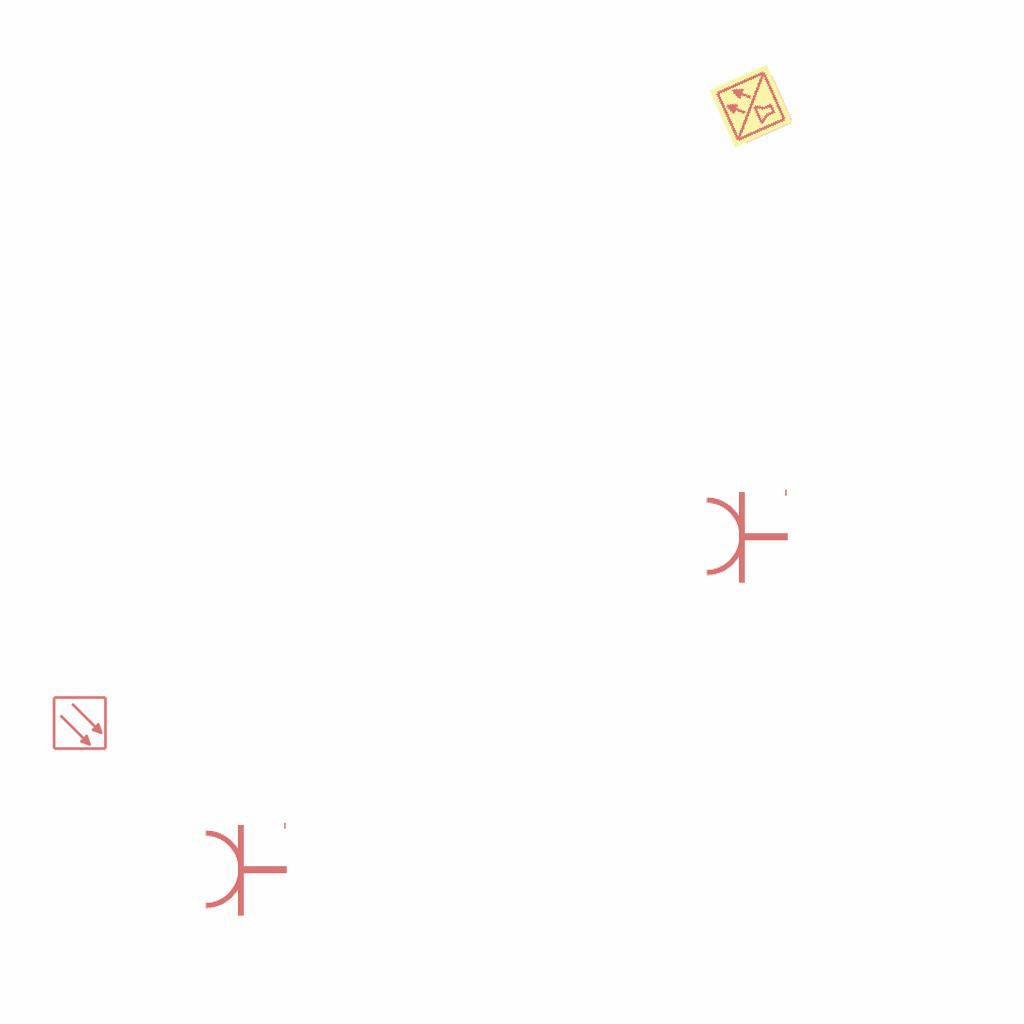OKW_Multisensormelder_(Kombination_optischer_Rauch-Kahlenmonoxid_Waerme-Melder): (707, 62, 795, 150)
RMO_Rauchmelder_optischer: (52, 695, 108, 751)
Schukosteckdose_einfach: (703, 485, 790, 585), (202, 818, 289, 918)
